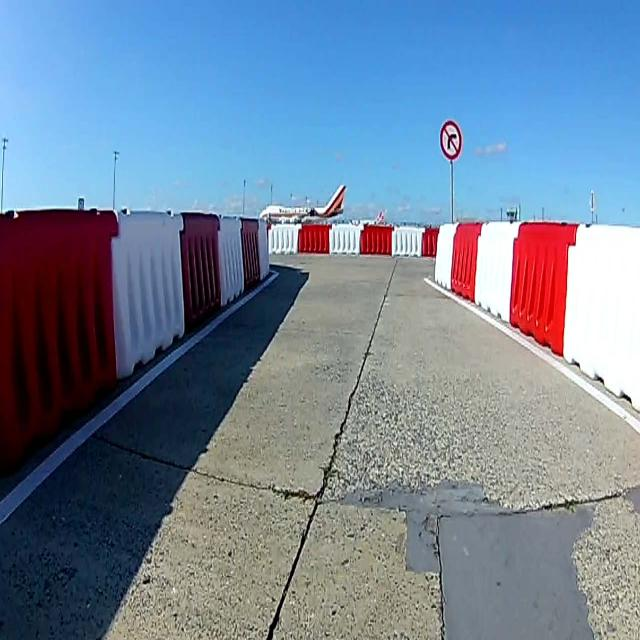sagadonulmez: (439, 121, 462, 159)
